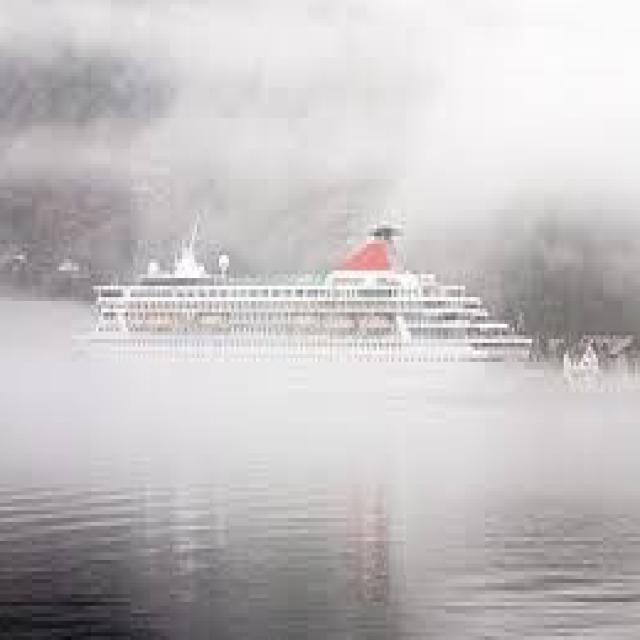passenger ship: (63, 215, 523, 394)
